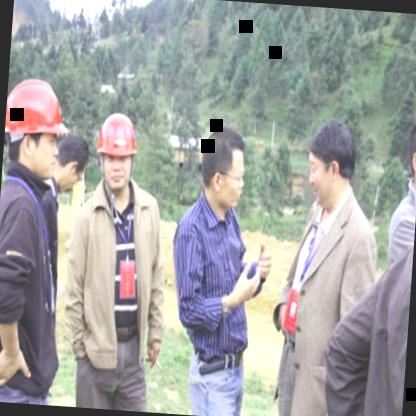head: (300, 113, 360, 214), (196, 122, 251, 216), (51, 134, 90, 194), (400, 108, 416, 210)
helmet: (2, 74, 69, 186), (92, 108, 143, 193)
